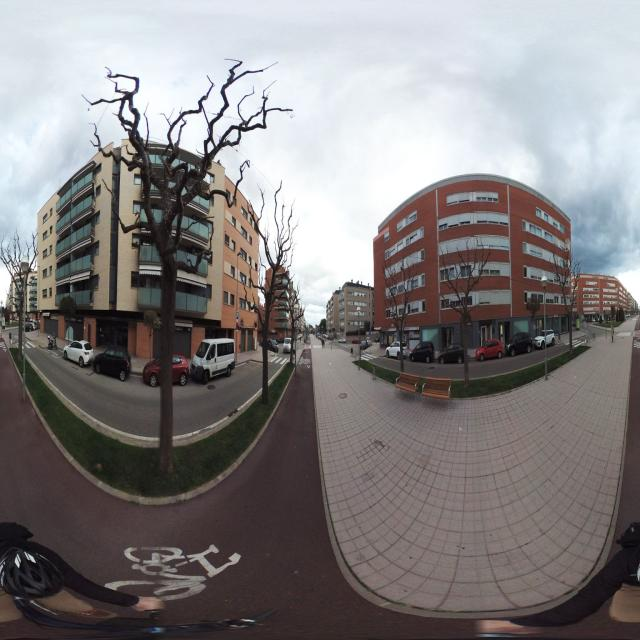forb_stopping: (236, 322, 238, 330)
